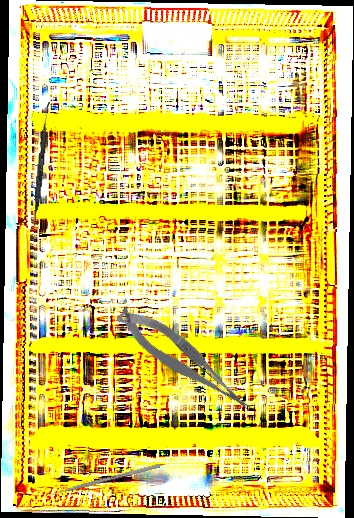Micro Scissor: (112, 294, 256, 429)
Pusher: (42, 463, 161, 499)
Spatula Surgical: (32, 101, 50, 228)
